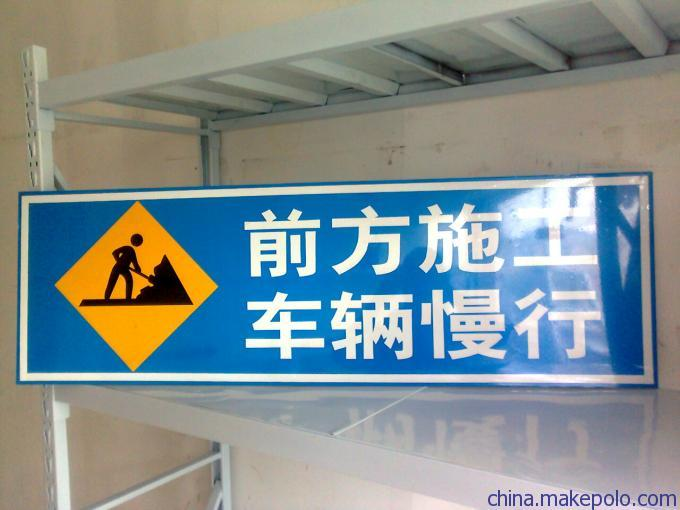sign: (24, 201, 647, 379)
